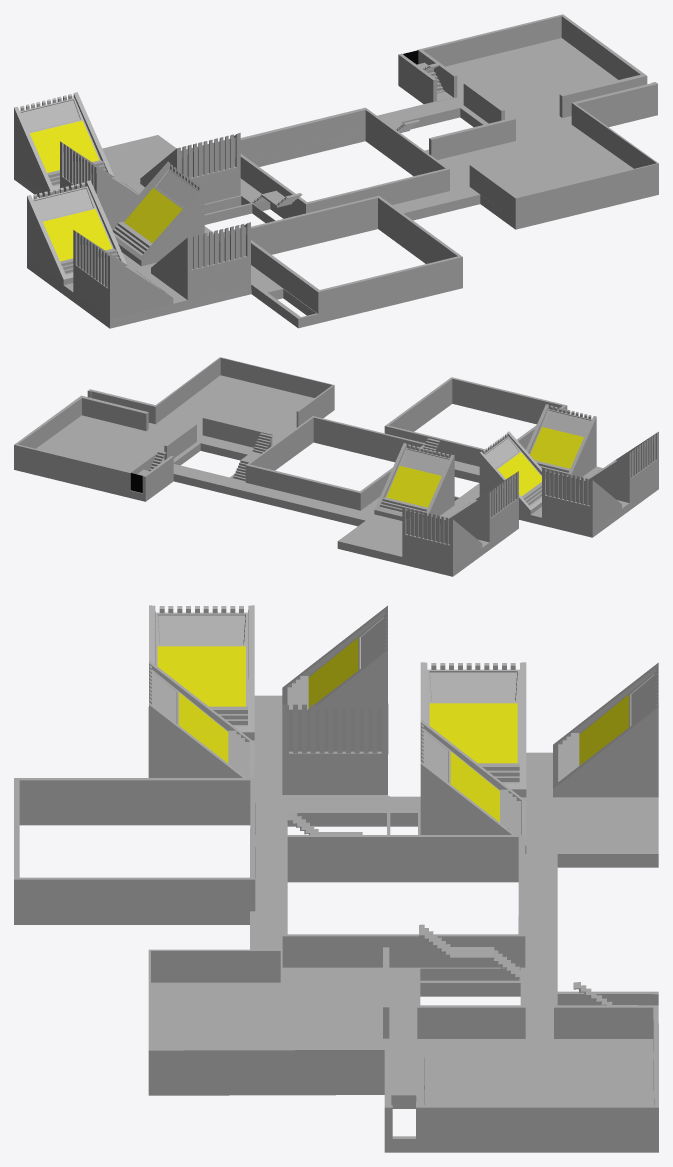
Rendered from piso4.fbx.
The picture shows the model from 3 angles, top to bottom: view 1: azimuth 30°, elevation 25°; view 2: azimuth 150°, elevation 25°; view 3: azimuth 270°, elevation 25°; orthographic projection. The views are drawn at different scales.
Visible parts, largest first — view 1: piso_0_4; view 2: piso_0_4; view 3: piso_0_4.
Part boxes in pixels (bbox=[...]): piso_0_4: bbox=[14, 14, 658, 328]; piso_0_4: bbox=[14, 357, 658, 576]; piso_0_4: bbox=[14, 605, 658, 1152].
Size of the model in its own units: 9030 by 989 by 5552.
1 material, 1 textured.
